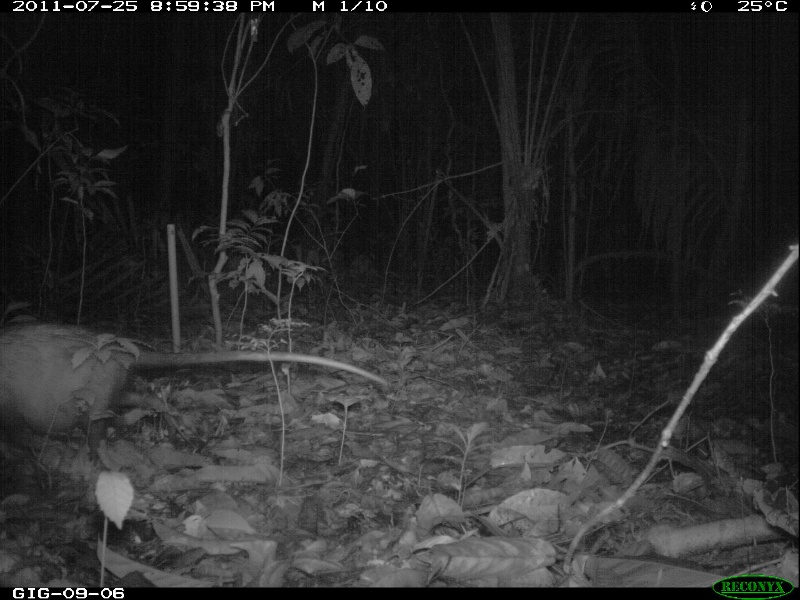opossum: (1, 321, 395, 443)
